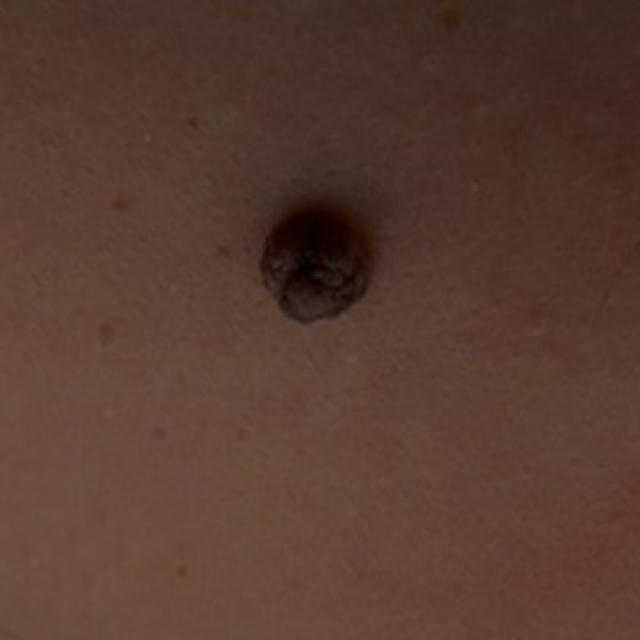wart: (228, 178, 414, 350)
